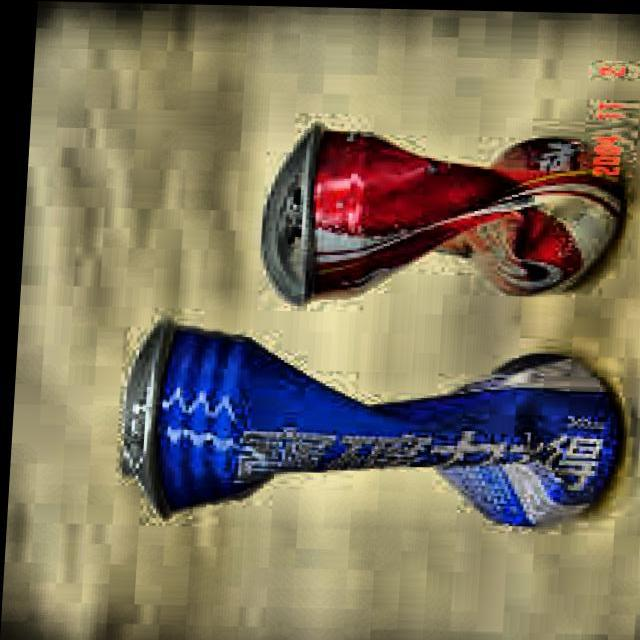Aluminum Can: (91, 310, 640, 538), (237, 112, 638, 312)
